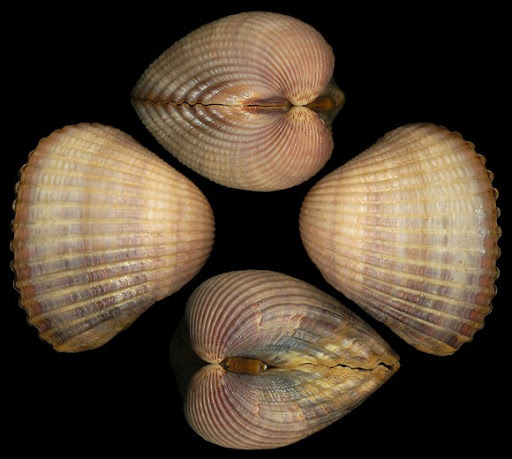cockle: (298, 115, 504, 358), (10, 111, 215, 352), (186, 266, 401, 449), (131, 11, 343, 192)
